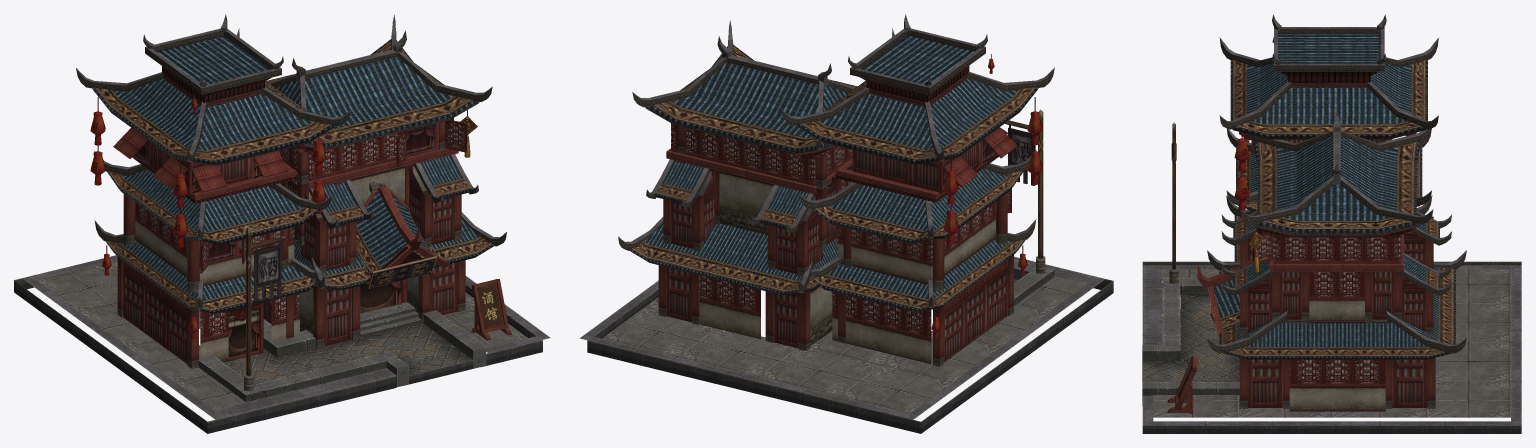
3 renders of one model, left to right at view 1: azimuth 30°, elevation 25°; view 2: azimuth 150°, elevation 25°; view 3: azimuth 270°, elevation 25°, orthographic. The views are drawn at different scales.
Visible parts, largest first — view 1: g_29; view 2: g_29; view 3: g_29.
Boxes of the visible parts, x1=… form: g_29: x1=14, y1=14, x2=550, y2=433; g_29: x1=580, y1=14, x2=1113, y2=433; g_29: x1=1142, y1=14, x2=1521, y2=433.
Size of the model in its own units: 20.46 by 16.78 by 19.98.
3 materials, 3 textured.
